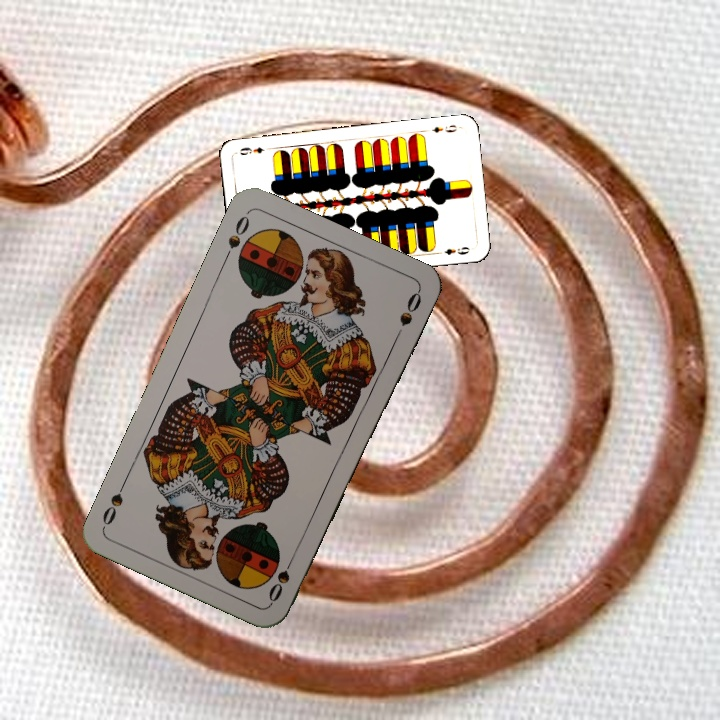E9: (428, 121, 462, 135)
SO: (264, 549, 298, 605), (219, 209, 252, 265)
